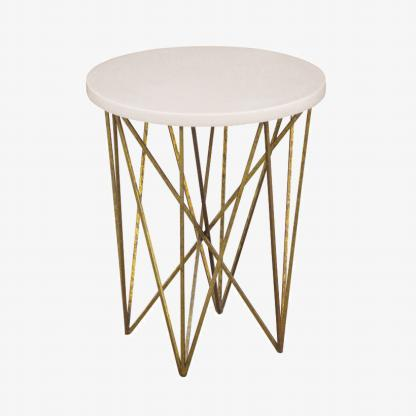table: (84, 43, 326, 377)
